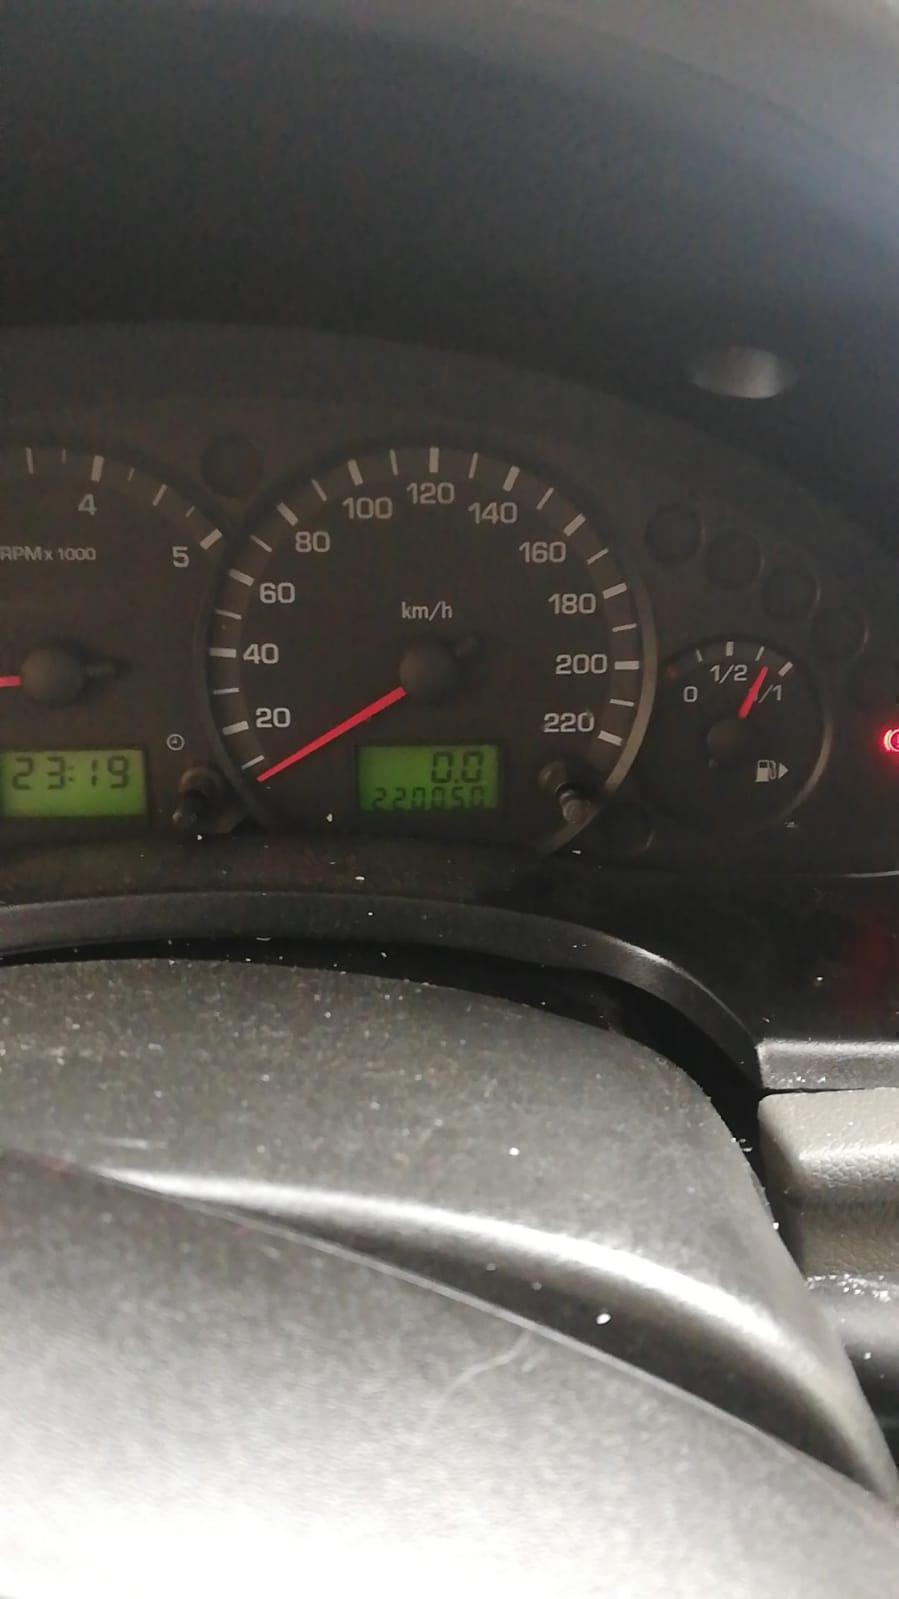,: (454, 778, 459, 784)
0: (461, 750, 484, 783), (430, 751, 452, 783), (469, 785, 484, 809), (430, 786, 446, 810), (411, 786, 425, 810)
2: (390, 786, 406, 810), (371, 786, 387, 810)
5: (450, 786, 465, 809)
odometer: (352, 740, 501, 815)
